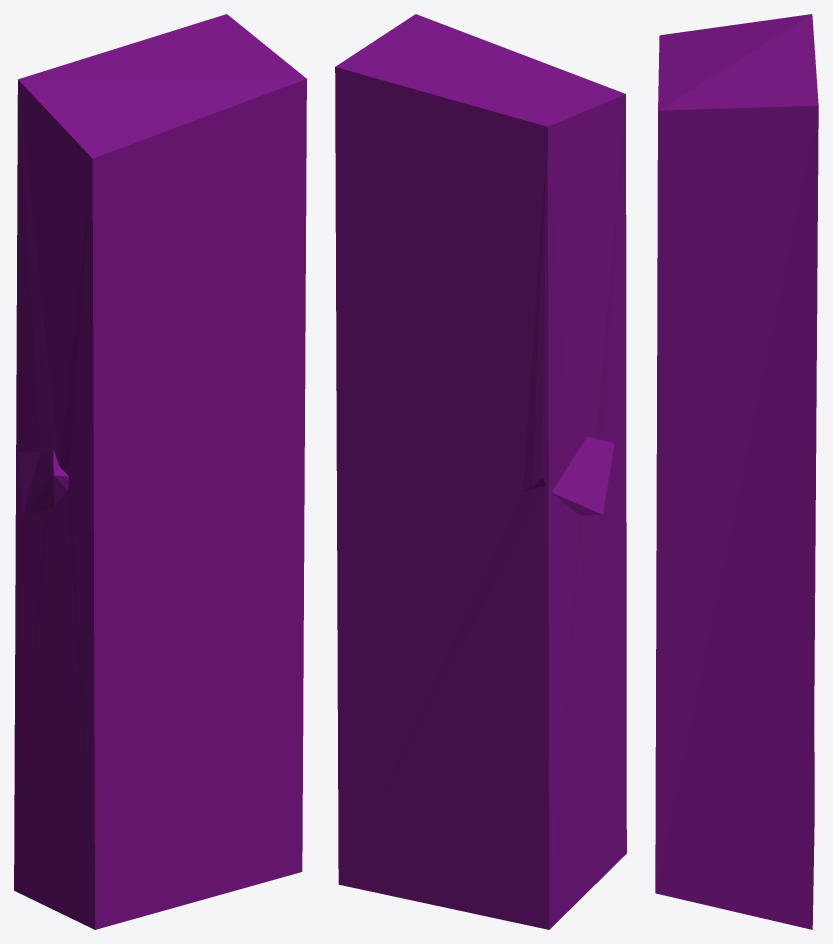
The picture shows the model from 3 angles, left to right: view 1: azimuth 30°, elevation 25°; view 2: azimuth 150°, elevation 25°; view 3: azimuth 270°, elevation 25°; orthographic projection.
Visible parts, largest first — view 1: 884_Cube.3572; view 2: 884_Cube.3572; view 3: 884_Cube.3572.
Part boxes in pixels (box(x1,y1,x2,y2)): 884_Cube.3572: box(14, 14, 306, 929); 884_Cube.3572: box(335, 14, 626, 929); 884_Cube.3572: box(655, 14, 818, 929).
Size of the model in its own units: 3.78 by 12.61 by 2.26.
